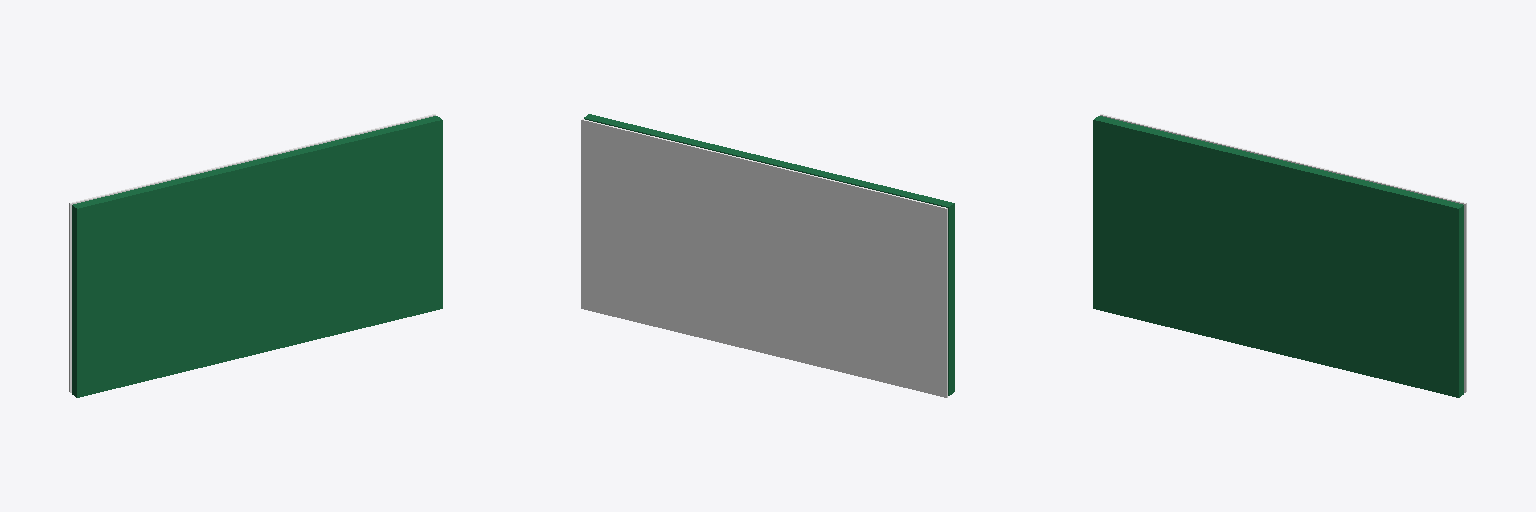
The model's file is tinker.obj.
The picture shows the model from 3 angles: view 1: azimuth 30°, elevation 25°; view 2: azimuth 150°, elevation 25°; view 3: azimuth 330°, elevation 25°; orthographic projection.
Parts seen in each view (by area): view 1: obj_0; view 2: obj_0; view 3: obj_0.
Boxes of the visible parts, x1=… form: obj_0: x1=69, y1=114, x2=442, y2=397; obj_0: x1=581, y1=114, x2=954, y2=397; obj_0: x1=1093, y1=114, x2=1466, y2=397.
Size of the model in its own units: 186 by 92 by 7.